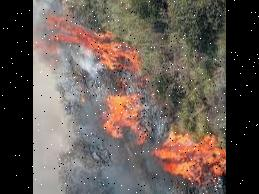fire: (84, 86, 226, 188), (32, 7, 144, 77)
